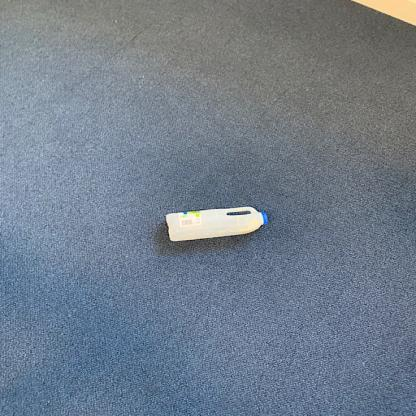trash: (164, 205, 269, 243)
